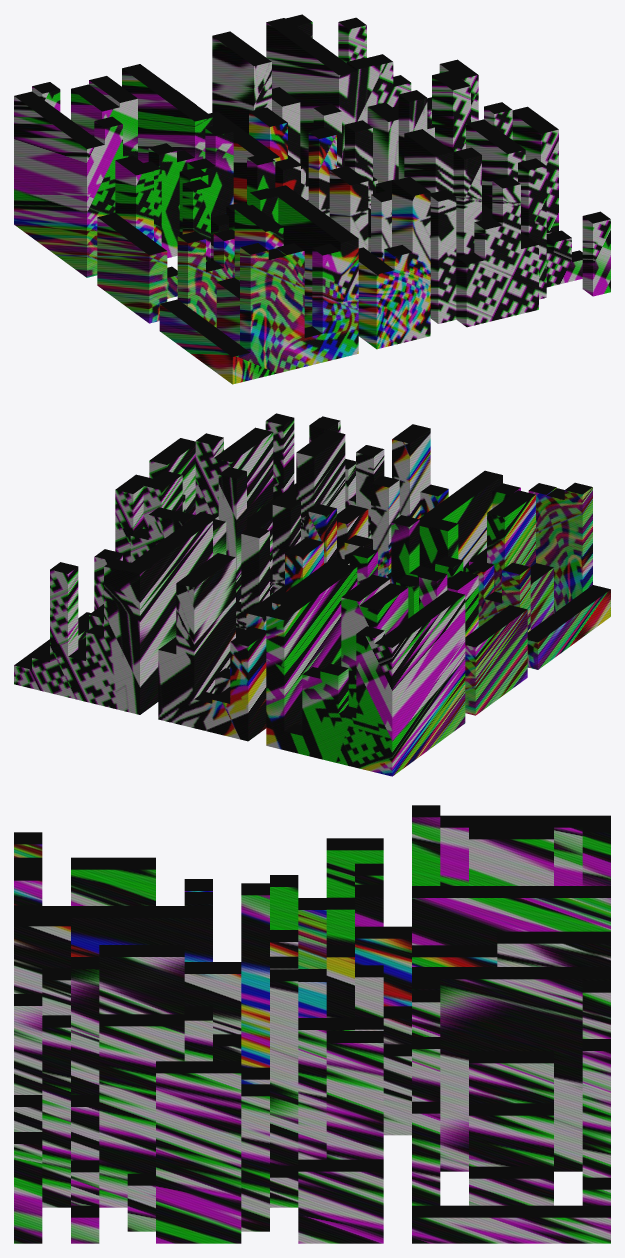
3 renders of one model, top to bottom at view 1: azimuth 30°, elevation 25°; view 2: azimuth 150°, elevation 25°; view 3: azimuth 270°, elevation 25°, orthographic. The views are drawn at different scales.
Parts seen in each view (by area): view 1: uvquickshade1; view 2: uvquickshade1; view 3: uvquickshade1.
Part boxes in pixels (<box>): uvquickshade1: <box>14,14,610,384</box>; uvquickshade1: <box>14,413,610,776</box>; uvquickshade1: <box>14,805,610,1243</box>.
Bounding box in the file's own units: 3 × 1.12 × 3.
1 material, 1 textured.
